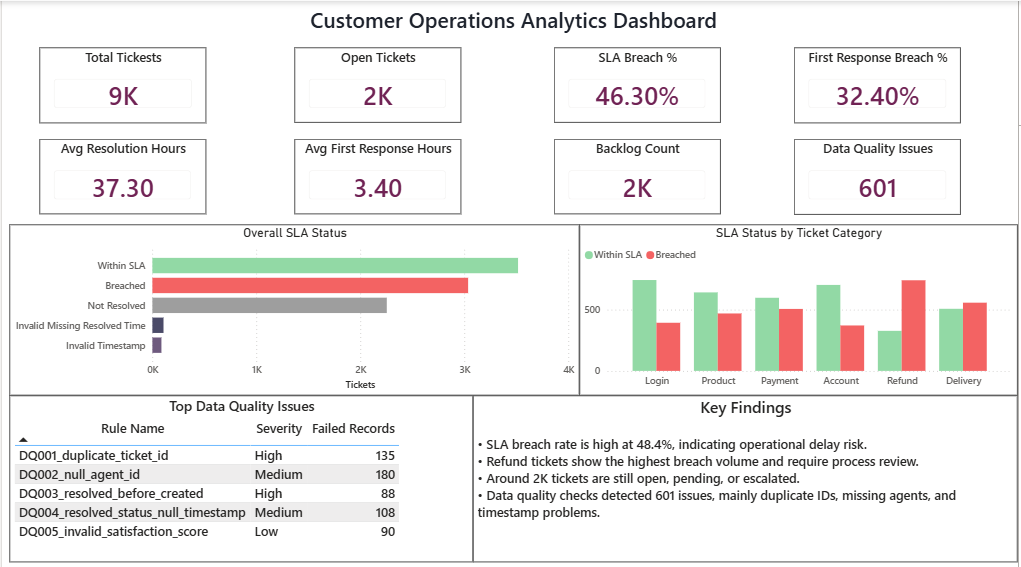

This screenshot's page, from the dashboard's own definition file:
{"tool":"powerbi","page":{"name":"Executive Overview","canvas":[1280,720],"ordinal":0},"visuals":[{"type":"textbox","box":[9.1,0,1270.4,59.1],"z":0},{"type":"cardVisual","title":"Total Tickests","fields":{"Data":["Executive Summary.Total Tickets"]},"box":[46.7,58.3,210,95],"z":1000},{"type":"cardVisual","title":"Open Tickets","fields":{"Data":["Executive Summary.Open Tickets"]},"box":[368.5,58.6,209.8,94.5],"z":2000},{"type":"cardVisual","title":"SLA Breach %","fields":{"Data":["Executive Summary.SLA Breach %"]},"box":[695.4,58.6,209.8,94.5],"z":3000},{"type":"cardVisual","title":"First Response Breach %","fields":{"Data":["Executive Summary.First Response Breach %"]},"box":[998.3,58.3,210,95],"z":4000},{"type":"cardVisual","title":"Avg Resolution Hours","fields":{"Data":["Executive Summary.Avg Resolution Hours"]},"box":[47.2,173.9,209.8,94.5],"z":5000},{"type":"cardVisual","title":"Backlog Count","fields":{"Data":["Executive Summary.Backlog Count"]},"box":[695.4,173.9,209.8,94.5],"z":6000},{"type":"cardVisual","title":"Data Quality Issues","fields":{"Data":["Executive Summary.DQ Issue Count"]},"box":[998.3,173.3,210,95],"z":7000},{"type":"cardVisual","title":"Avg First Response Hours","fields":{"Data":["Executive Summary.Avg First Response Hours"]},"box":[368.5,173.9,209.8,94.5],"z":8000},{"type":"clusteredBarChart","title":"Overall SLA Status","fields":{"Category":["Tickets SLA.resolution_sla_status"],"Y":["CountNonNull(Tickets SLA.ticket_id)"]},"box":[9.4,281.6,718.1,215.4],"z":9000},{"type":"clusteredColumnChart","title":"SLA Status by Ticket Category","fields":{"Category":["SLA Breach Analysis.category"],"Y":["CountNonNull(SLA Breach Analysis.ticket_id)"],"Series":["SLA Breach Analysis.resolution_sla_status"]},"box":[727.6,281.6,551.8,215.4],"z":10000},{"type":"tableEx","title":"Top Data Quality Issues","fields":{"Values":["Top DQ Rules.rule_name","Top DQ Rules.severity","Top DQ Rules.failed_record_count"]},"box":[9.4,497,583.9,209.8],"z":11000},{"type":"textbox","title":"Key Findings","box":[593.4,497,686,209.8],"z":12000}]}

Visuals, with their boxes in screenshot pixels (x1, y1, x2, y2), scaled from the page's 1280x720 canvas onto the 1021x567 screenshot:
textbox: box(7, 0, 1020, 47)
"Total Tickests" cardVisual: box(37, 46, 205, 121)
"Open Tickets" cardVisual: box(294, 46, 461, 121)
"SLA Breach %" cardVisual: box(555, 46, 722, 121)
"First Response Breach %" cardVisual: box(796, 46, 964, 121)
"Avg Resolution Hours" cardVisual: box(38, 137, 205, 211)
"Backlog Count" cardVisual: box(555, 137, 722, 211)
"Data Quality Issues" cardVisual: box(796, 136, 964, 211)
"Avg First Response Hours" cardVisual: box(294, 137, 461, 211)
"Overall SLA Status" clusteredBarChart: box(7, 222, 580, 391)
"SLA Status by Ticket Category" clusteredColumnChart: box(580, 222, 1020, 391)
"Top Data Quality Issues" tableEx: box(7, 391, 473, 557)
"Key Findings" textbox: box(473, 391, 1020, 557)
